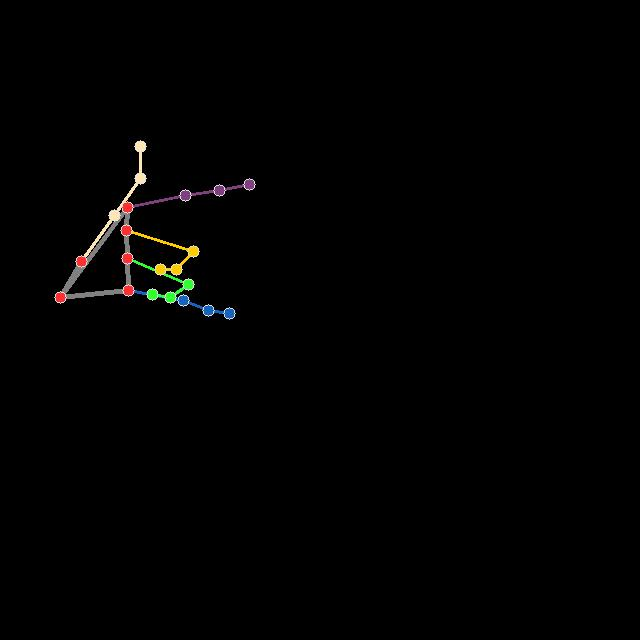spiderman: (53, 141, 256, 321)
